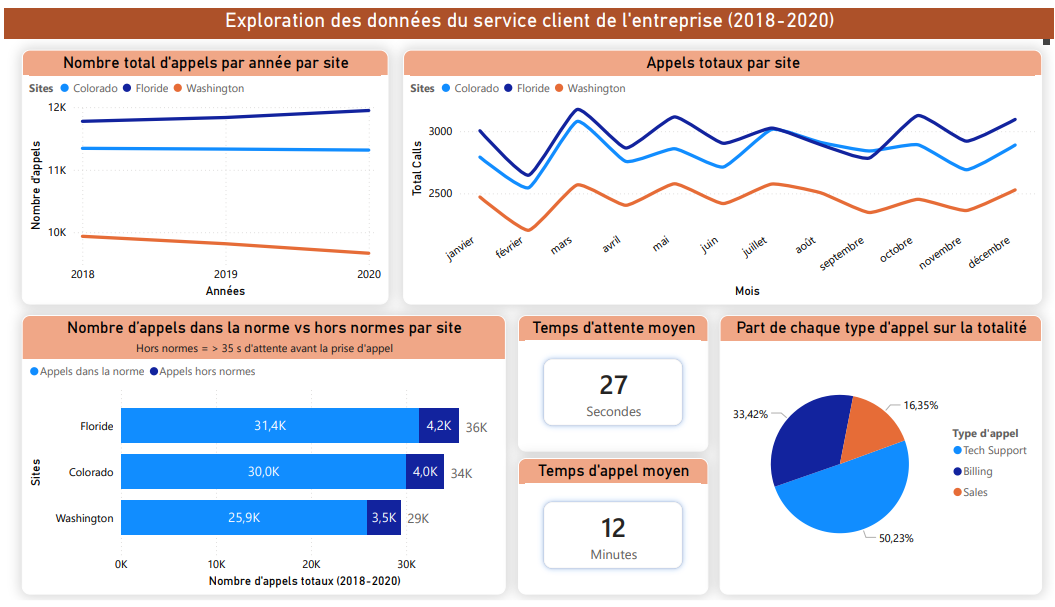

Layout of this report page (visuals, bound fields, positions):
{"tool":"powerbi","page":{"name":"Service clients","canvas":[1280,720],"ordinal":0},"visuals":[{"type":"textbox","title":"Exploration des données du service client de l''entreprise (2018-2020)","box":[0,0,1280,49.3],"z":0},{"type":"lineChart","title":"Nombre total d''appels par année par site","fields":{"Category":["Call Center.Call Timestamp.Variation.Hiérarchie de dates.Année"],"Y":["Call Center.Total Calls"],"Series":["Employees.Etat"]},"box":[21.1,49.8,446.6,309.7],"z":1000},{"type":"barChart","title":"Nombre d’appels dans la norme vs hors normes par site","fields":{"Category":["Employees.Etat"],"Y":["Call Center.Calls Within SLA","Call Center.Calls Outside SLA"]},"box":[21.1,373.2,589.6,339.6],"z":2000},{"type":"cardVisual","title":"Temps d''attente moyen","fields":{"Data":["Call Center.Average WaitTime"]},"box":[625.7,373.2,232.6,165.4],"z":3000},{"type":"cardVisual","title":"Temps d''appel moyen","fields":{"Data":["Avg(Call Center.Call Duration (min))"]},"box":[625.7,547.3,232.6,165.4],"z":4000},{"type":"pieChart","title":"Part de chaque type d''appel sur la totalité","fields":{"Category":["Call Charges.Call Type "],"Y":["Call Center.Total Calls"]},"box":[872,373.2,393.1,339.6],"z":5000},{"type":"lineChart","title":"Appels totaux par site","fields":{"Category":["Call Center.Call Timestamp.Variation.Hiérarchie de dates.Mois"],"Y":["Call Center.Total Calls"],"Series":["Employees.Etat"]},"box":[486.4,49.8,778.7,309.7],"z":6001}]}

Visuals, with their boxes in screenshot pixels (x1, y1, x2, y2), scaled from the page's 1280x720 canvas onto the 1055x607 screenshot:
"Exploration des données du service client de l''entreprise (2018-2020)" textbox: 0:0:1054:42
"Nombre total d''appels par année par site" lineChart: 17:42:385:303
"Nombre d’appels dans la norme vs hors normes par site" barChart: 17:315:503:601
"Temps d''attente moyen" cardVisual: 516:315:707:454
"Temps d''appel moyen" cardVisual: 516:461:707:601
"Part de chaque type d''appel sur la totalité" pieChart: 719:315:1043:601
"Appels totaux par site" lineChart: 401:42:1043:303
